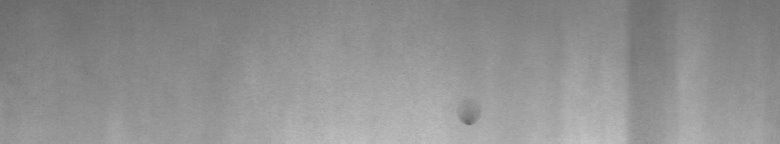fi: (460, 115, 478, 132)
